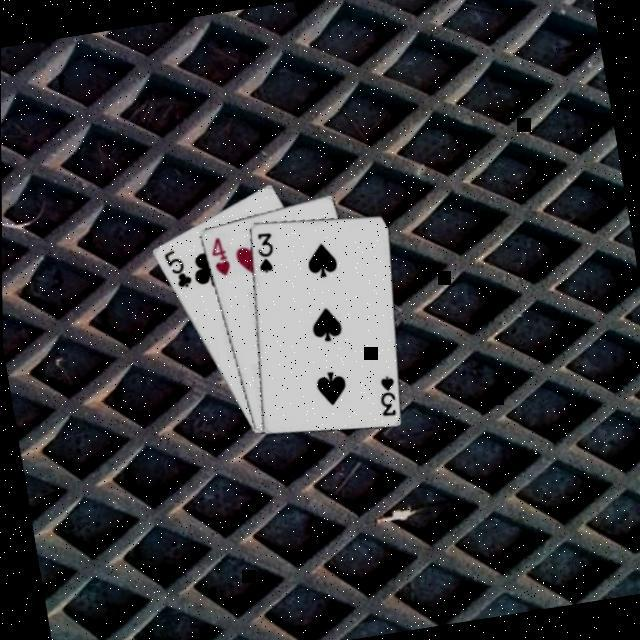3S: (373, 368, 402, 418), (252, 226, 280, 274)
4H: (207, 231, 236, 278)
5C: (160, 242, 197, 290)
